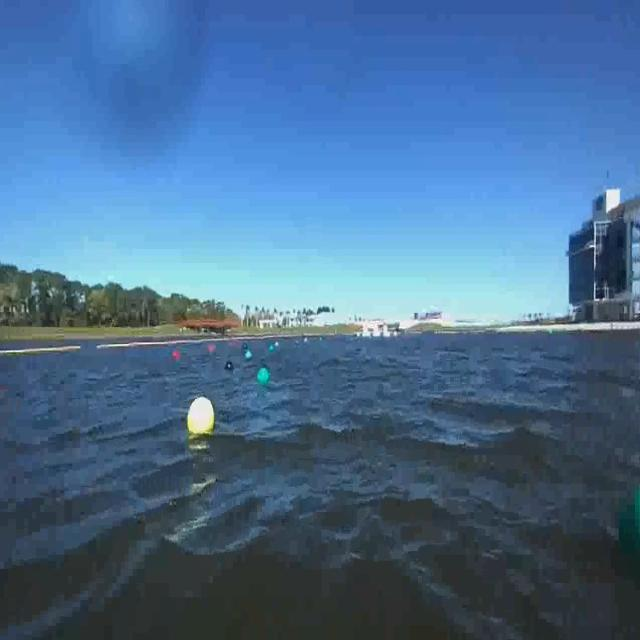black-buoy: (225, 360, 233, 370)
green-buoy: (260, 366, 272, 385)
yellow-buoy: (186, 398, 215, 436)
